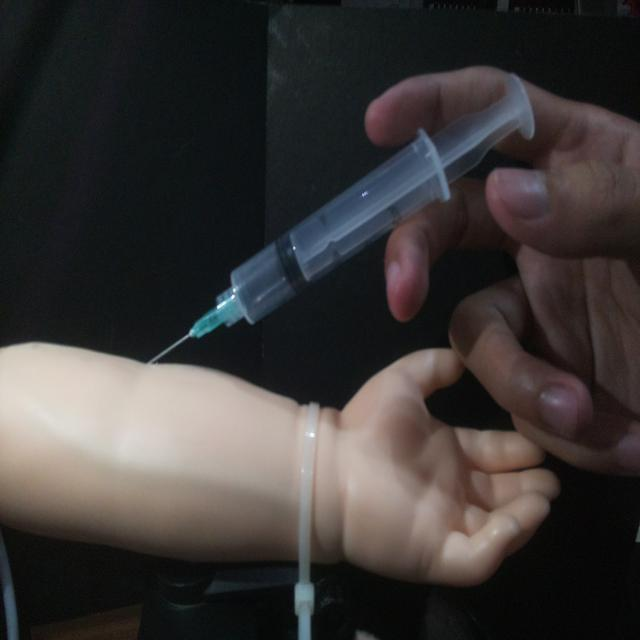27deg: (142, 68, 537, 367)
